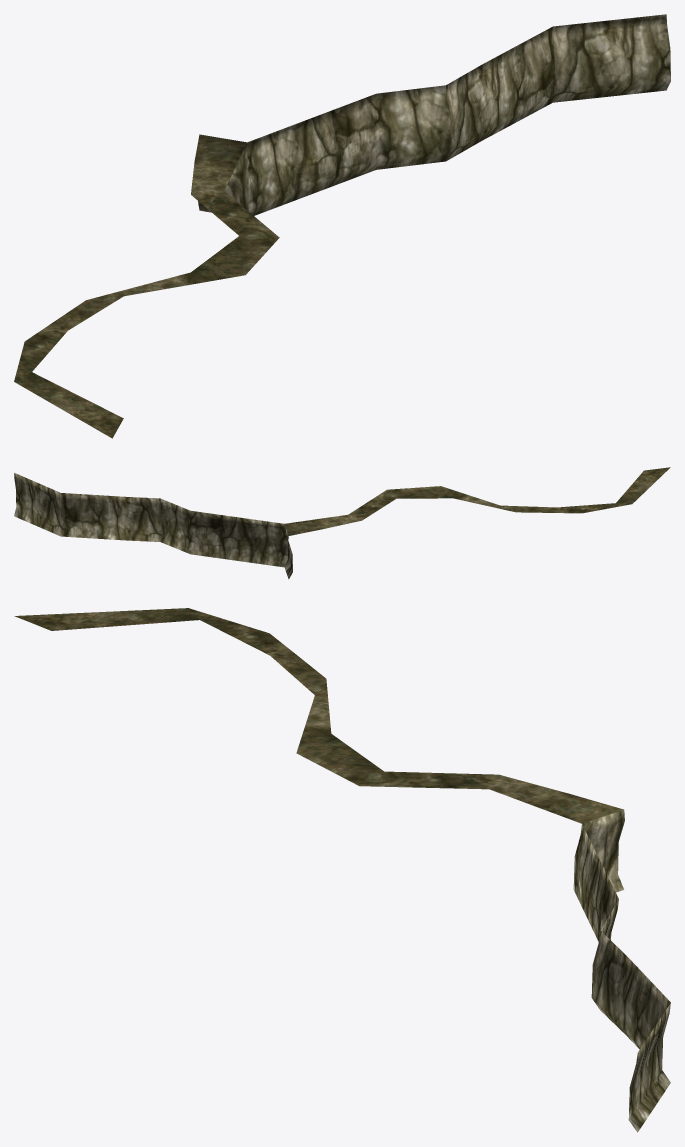
File: CB_NEWPLAYSURFACE_CB_PLAYSURFACE141.fbx
3 views of the same model, one above another, from view 1: azimuth 30°, elevation 25°; view 2: azimuth 150°, elevation 25°; view 3: azimuth 270°, elevation 25° (orthographic). The views are drawn at different scales.
Visible parts, largest first — view 1: CB_NEWPLAYSURFACE_CB_PLAYSURFACE141; view 2: CB_NEWPLAYSURFACE_CB_PLAYSURFACE141; view 3: CB_NEWPLAYSURFACE_CB_PLAYSURFACE141.
Boxes of the visible parts, <box> form: CB_NEWPLAYSURFACE_CB_PLAYSURFACE141: <box>14,14,670,438</box>; CB_NEWPLAYSURFACE_CB_PLAYSURFACE141: <box>14,467,670,579</box>; CB_NEWPLAYSURFACE_CB_PLAYSURFACE141: <box>14,608,670,1132</box>.
Bounding box in the file's own units: 475711 × 40030 × 296932.
Materials: 2 (2 with a texture image).
